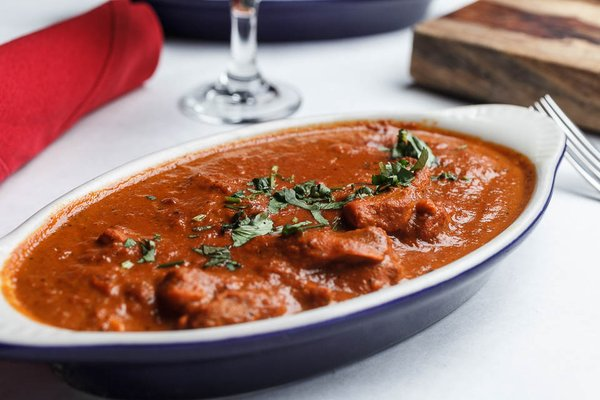burger: (531, 92, 600, 200)
sushi: (0, 116, 542, 394)
